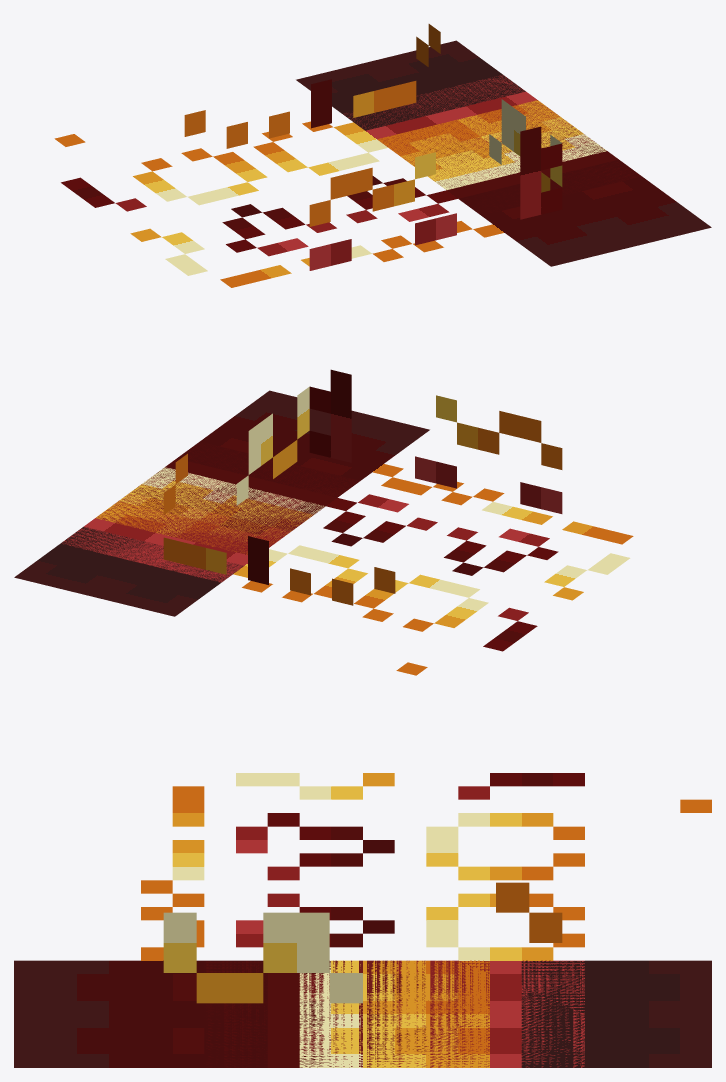
The model's file is straw_hat.obj.
3 renders of one model, top to bottom at view 1: azimuth 30°, elevation 25°; view 2: azimuth 150°, elevation 25°; view 3: azimuth 270°, elevation 25°, orthographic. The views are drawn at different scales.
Size of the model in its own units: 0.6562 by 0.1266 by 0.6562.
